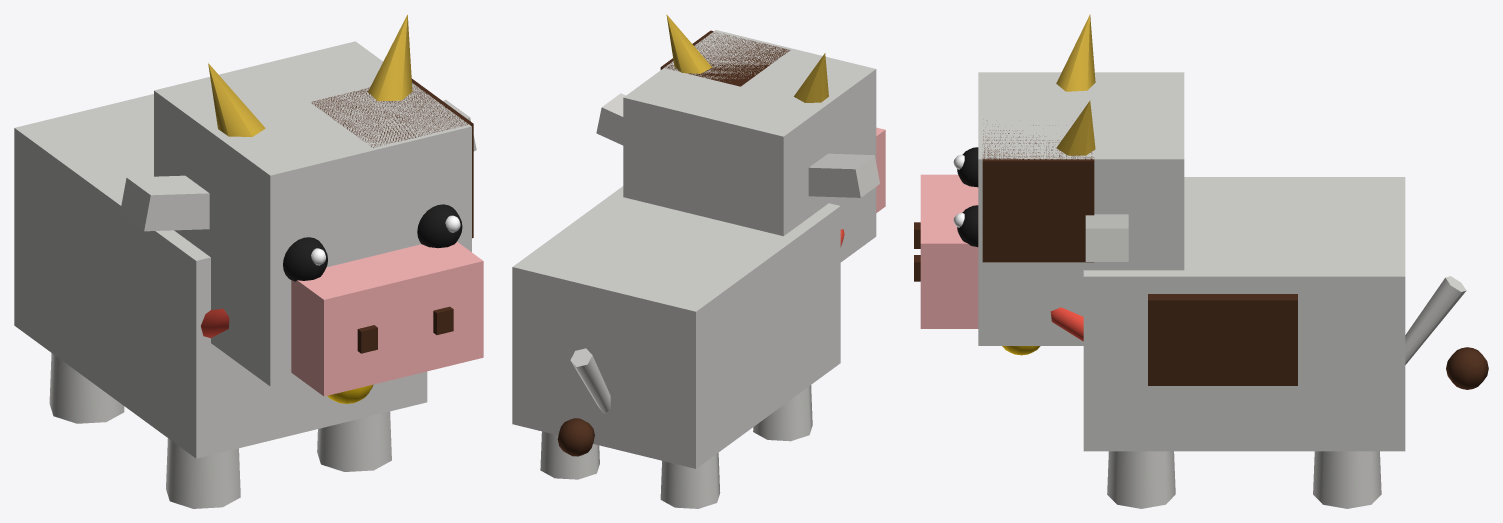
The model's file is cow.glb.
The picture shows the model from 3 angles, left to right: view 1: azimuth 30°, elevation 25°; view 2: azimuth 150°, elevation 25°; view 3: azimuth 270°, elevation 25°; orthographic projection. The views are drawn at different scales.
Visible parts, largest first — view 1: Quaternius_Cow_Model; view 2: Quaternius_Cow_Model; view 3: Quaternius_Cow_Model.
Boxes of the visible parts, x1=… form: Quaternius_Cow_Model: x1=14, y1=14, x2=483, y2=508; Quaternius_Cow_Model: x1=512, y1=14, x2=885, y2=508; Quaternius_Cow_Model: x1=914, y1=14, x2=1488, y2=508.
Bounding box in the file's own units: 0.7923 × 1.04 × 1.34.
